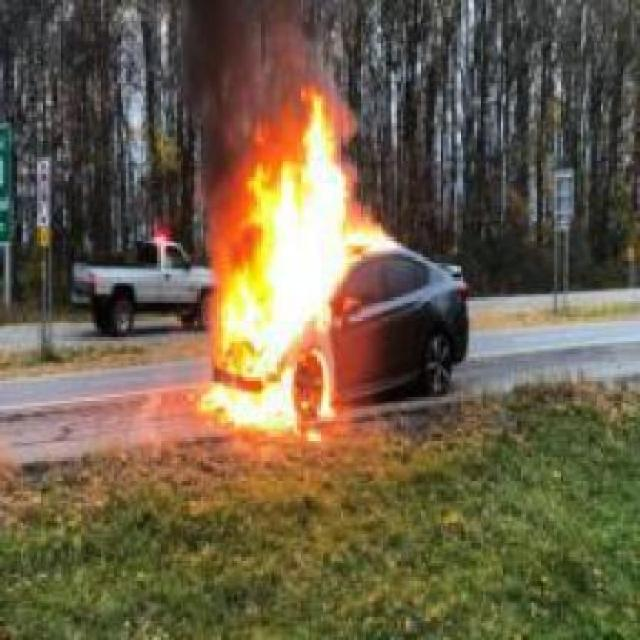Fire: (196, 94, 392, 444)
Smoke: (173, 0, 329, 90)
